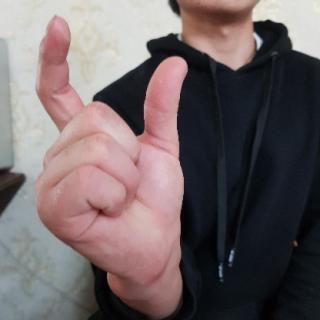NOON: (33, 13, 190, 308)
